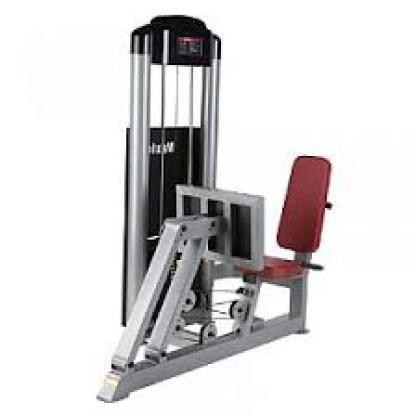leg press: (67, 7, 339, 416)
